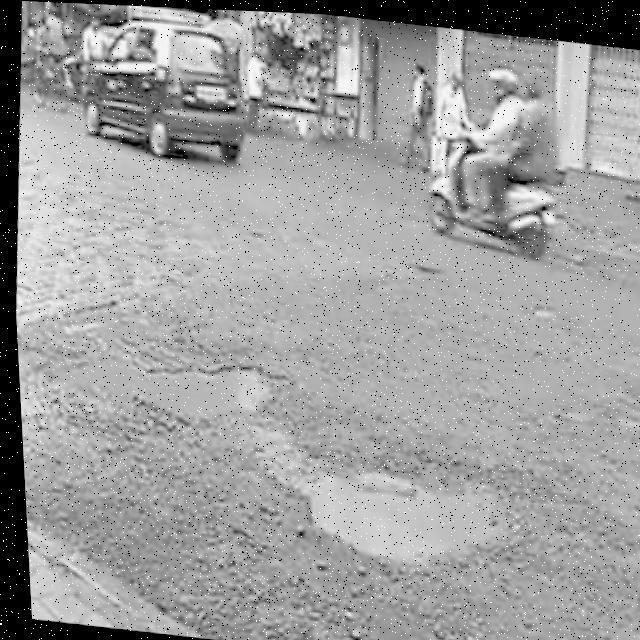pothole: (281, 442, 518, 579), (28, 329, 276, 432)
